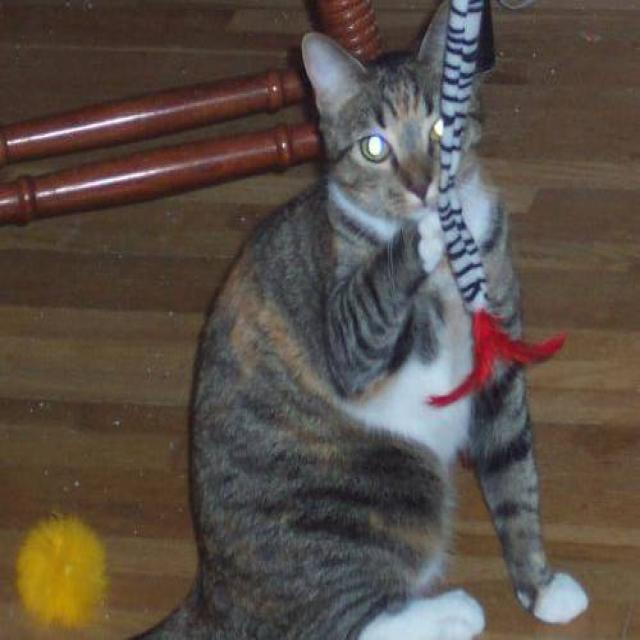cat: (103, 0, 598, 640)
